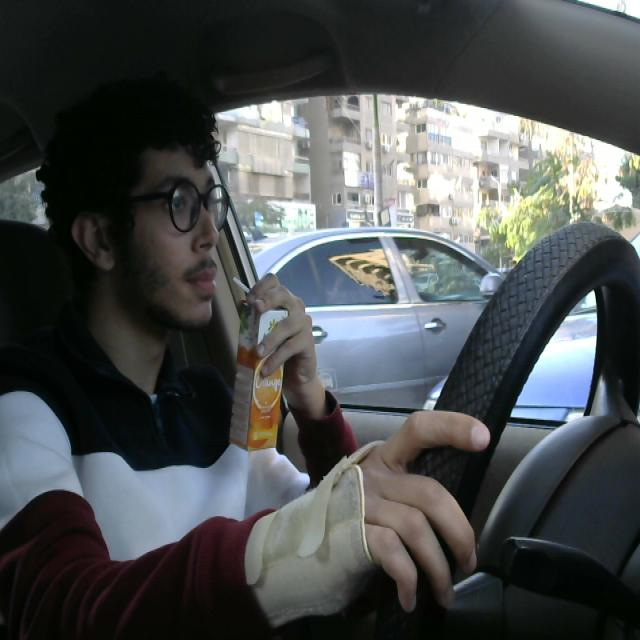drinking: (228, 267, 290, 451)
